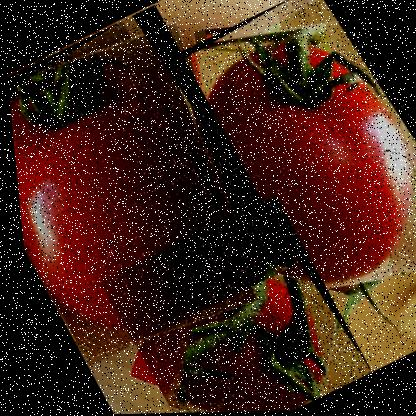tomato: (0, 1, 298, 367), (133, 0, 415, 333), (86, 193, 367, 414)
